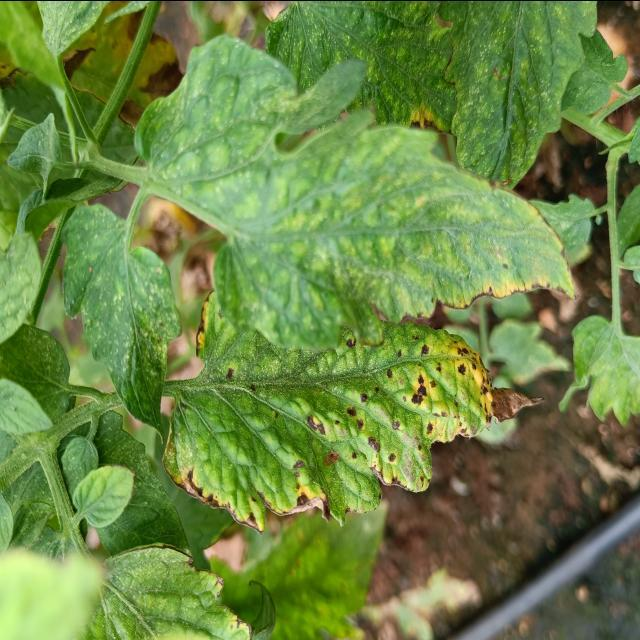Tomato mosaic virus leaf: (157, 278, 554, 533)
